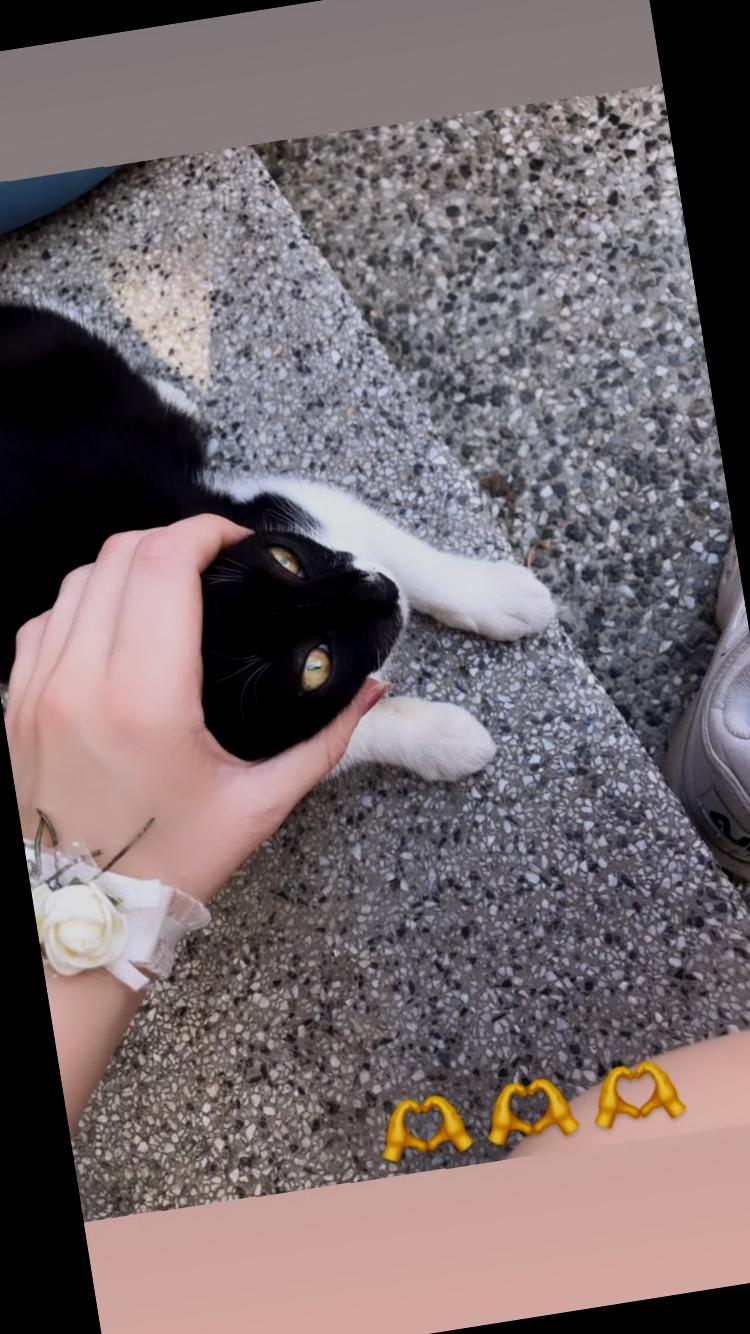macka: (0, 222, 583, 855)
